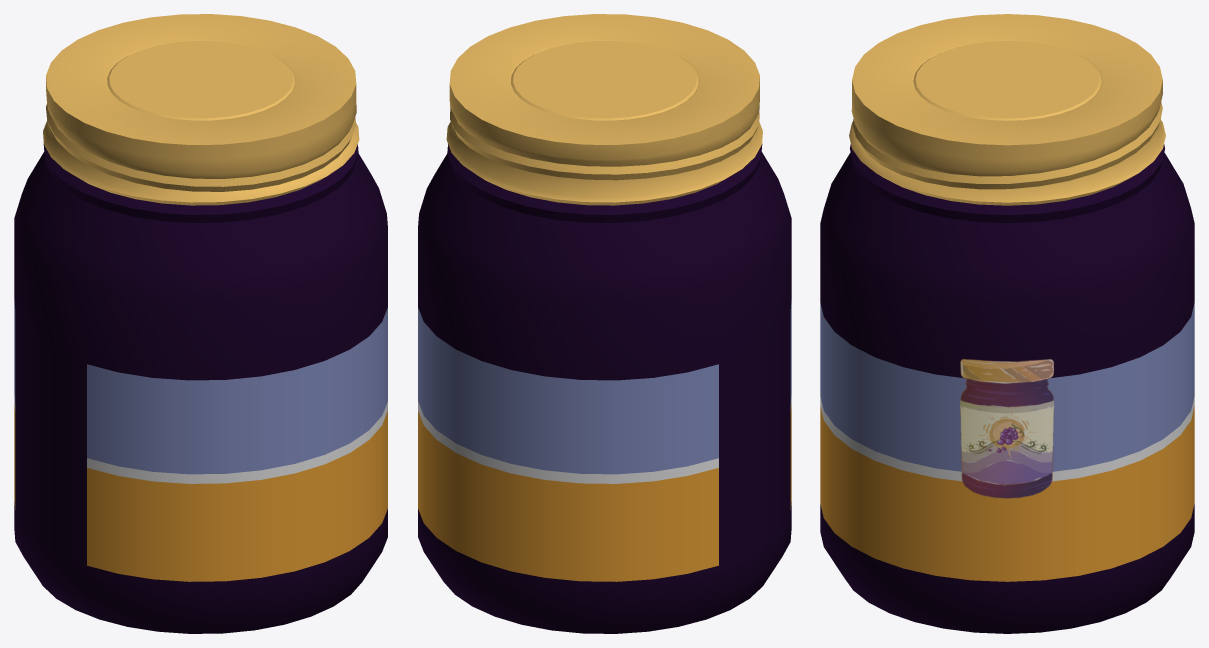
File: JellyJar.glb
The picture shows the model from 3 angles, left to right: view 1: azimuth 30°, elevation 25°; view 2: azimuth 150°, elevation 25°; view 3: azimuth 270°, elevation 25°; orthographic projection.
Visible parts, largest first — view 1: Jar; view 2: Jar; view 3: Jar, Logo.
Boxes of the visible parts, x1,y1,x2,y2 form: Jar: [14, 14, 387, 633]; Jar: [418, 14, 791, 633]; Jar: [820, 14, 1194, 633]; Logo: [960, 359, 1054, 498].
Size of the model in its own units: 2.01 by 2.85 by 2.
6 materials, 1 textured.
